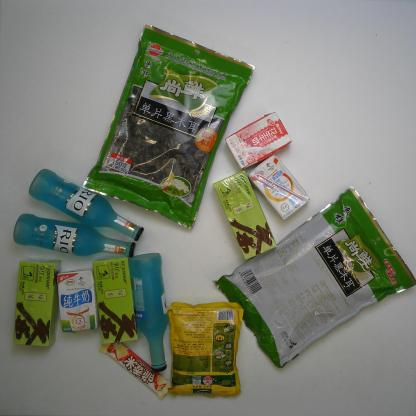Alcohol: (26, 168, 145, 242), (13, 212, 136, 259), (128, 251, 170, 374)
Chocolate: (96, 342, 173, 403)
Dried Food: (211, 183, 415, 371), (79, 18, 258, 232)
Instant Drink: (212, 168, 280, 263), (11, 258, 63, 348), (92, 254, 140, 346)
Milk: (247, 154, 312, 223), (224, 109, 294, 171), (54, 266, 100, 334)
Seasoner: (168, 301, 244, 400)
